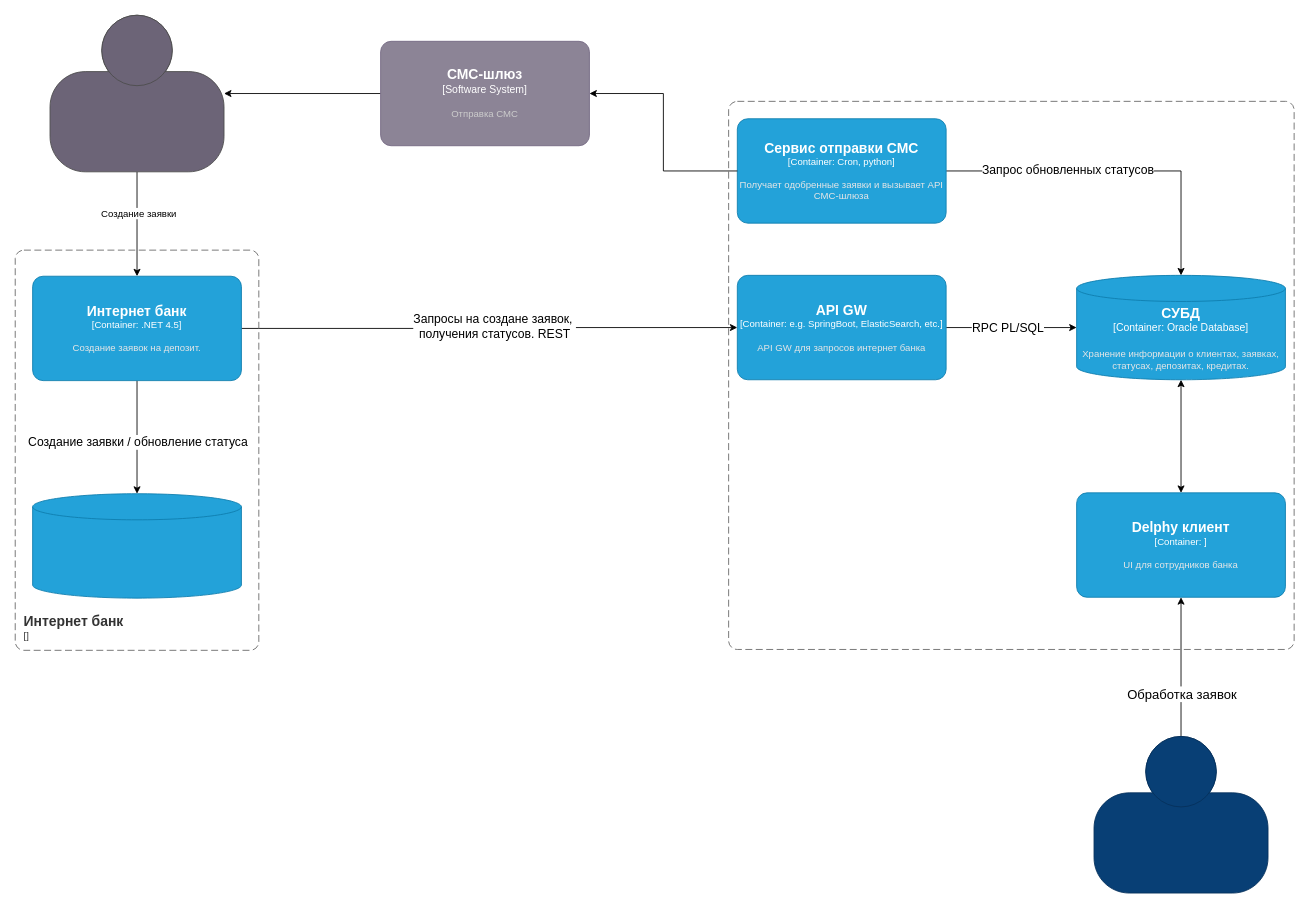
Image size: 1309x908. Some labels were removed from this diagram. Each missing label, with the box of its shape:
АБС [АБС]: (728, 100, 1294, 649)
БД интерет банка [Container: MS SQL] Хранит информацию о заявках на депозит: (32, 493, 241, 598)
Клиент [Person]: (49, 14, 224, 172)
Сотрудник бэк-офиса [Person]: (1093, 736, 1268, 893)
